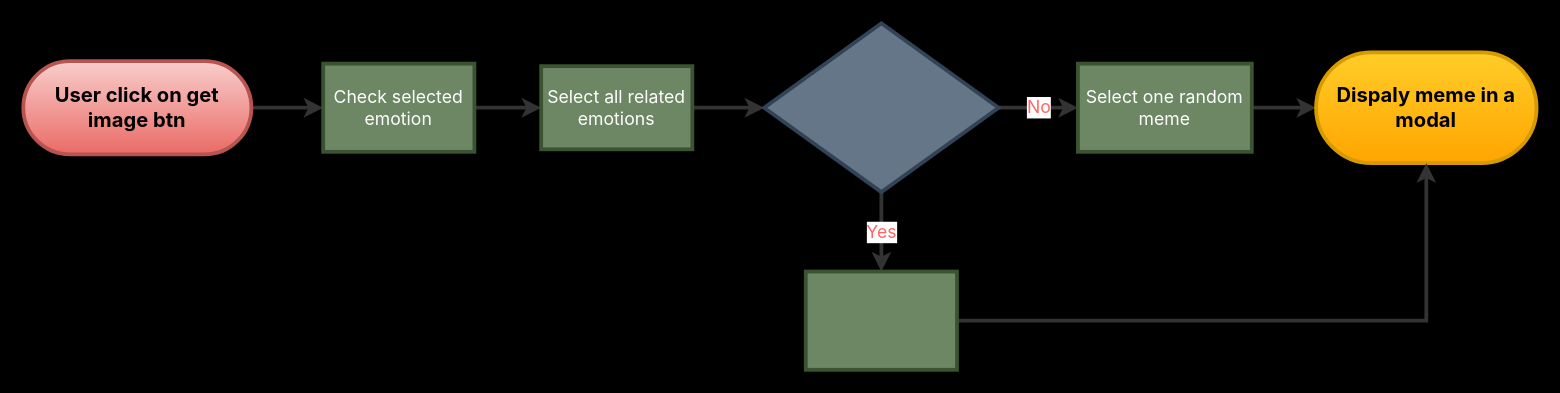
Image size: 1560x393. Some labels were removed from this diagram. Here are the shapes that lost their labels. From the top down, the centre of each, then its label:
pixel 881 107: Animated GIFs only checked?
pixel 880 320: Select one random GIF meme
